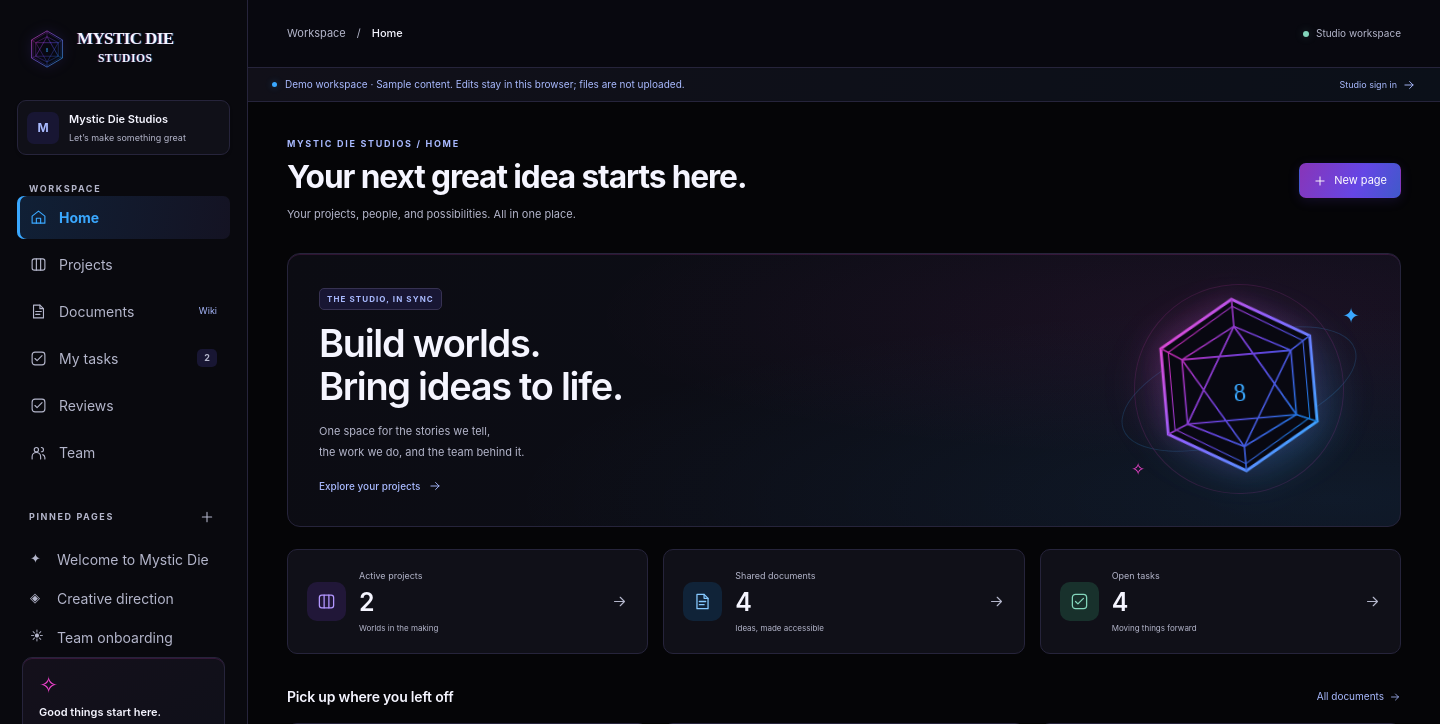
Test: Studio workspace preview › dismisses the task dialog with Escape and restores focus
Step 1. Click the button "Projects" → (124, 265), box top-left (17, 243), bottom-right (230, 286)
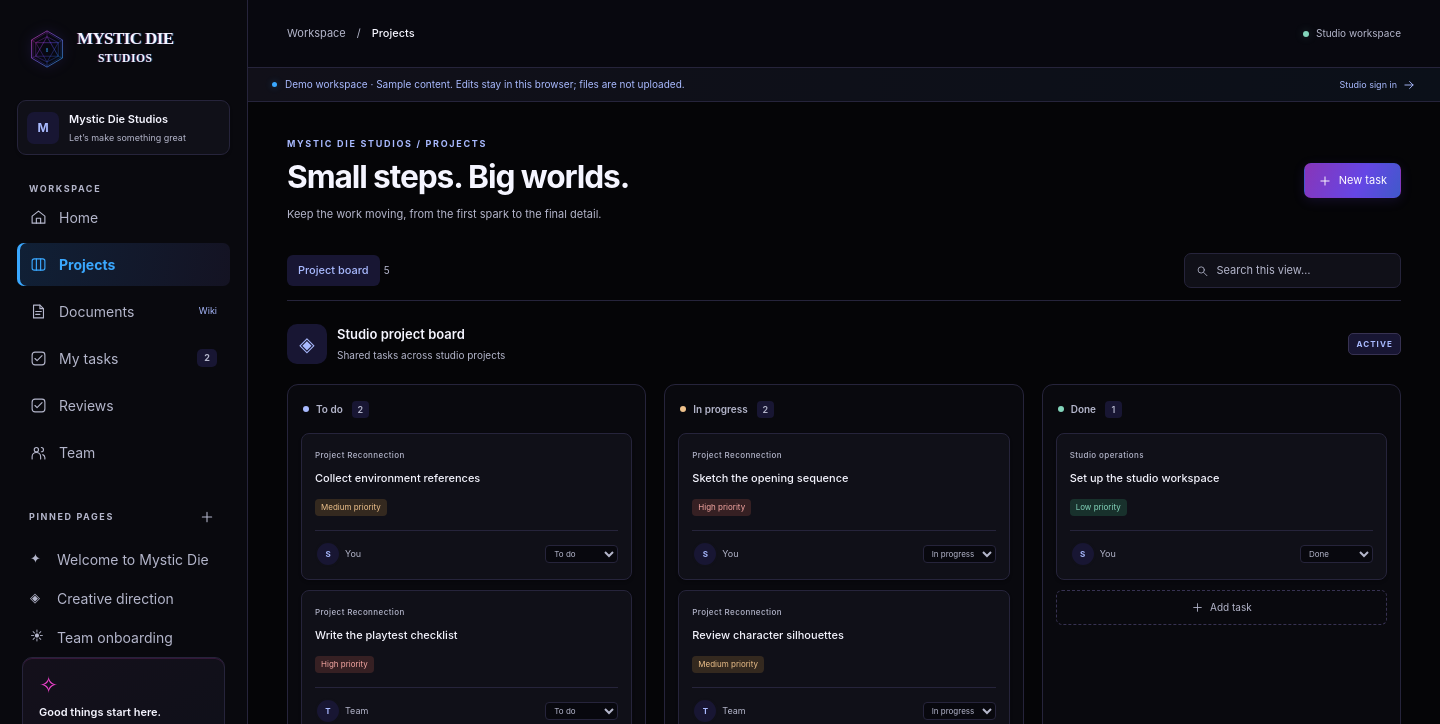
Step 2. Click the button "New task" → (1353, 181), box top-left (1304, 163), bottom-right (1401, 198)
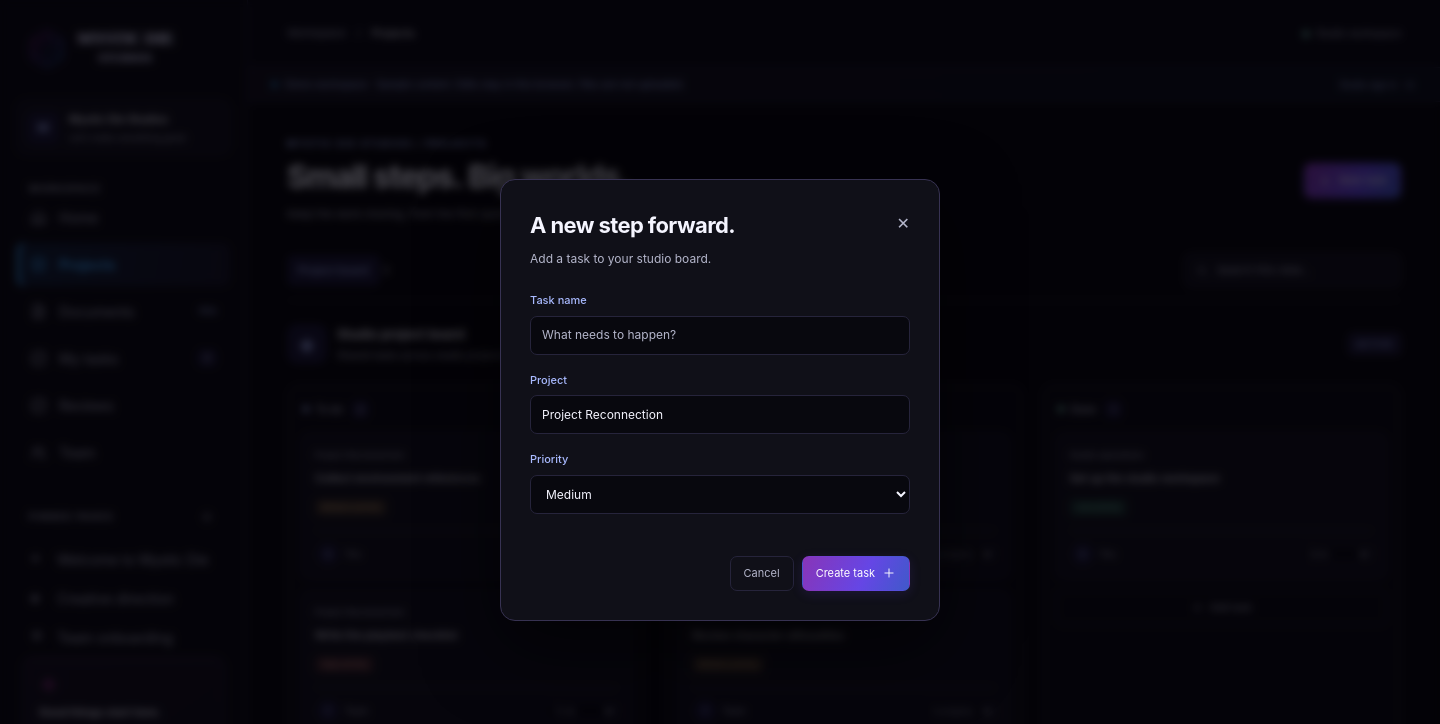
Step 3. Press Esc in the field named "title", box top-left (530, 316), bottom-right (910, 355)
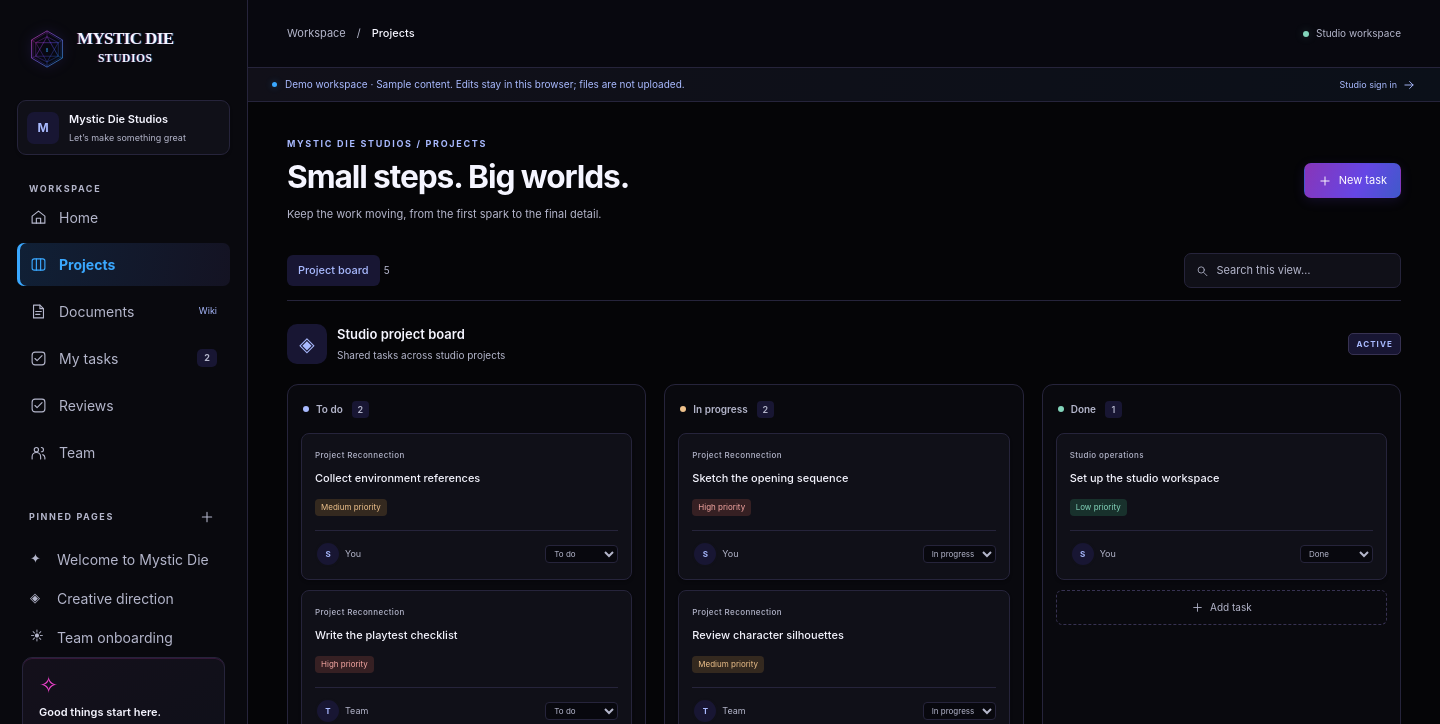
Expected: the dialog is gone
